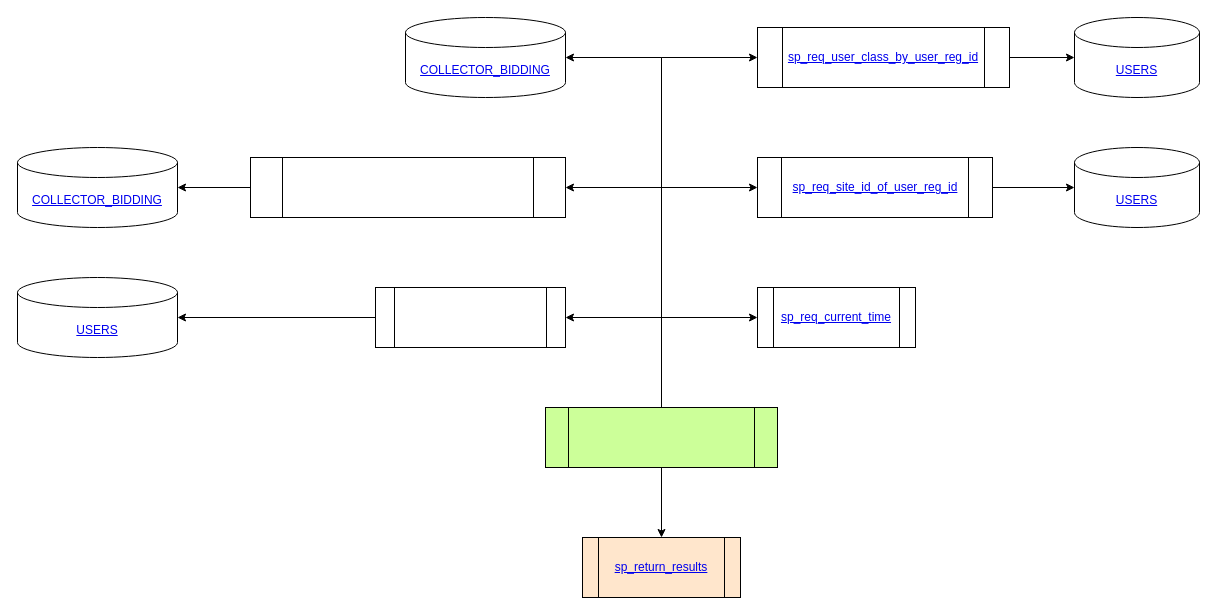
Some shapes in this 1217 by 615 pixel diagram are drawn without their labels. Here are the shapes that lost their labels. From the top down, the centre of each, then its label:
(x=408, y=187): sp_req_disposal_id_of_collector_bidding_id
(x=470, y=317): sp_req_user_exists_by_id
(x=661, y=437): sp_disposer_response_visit
